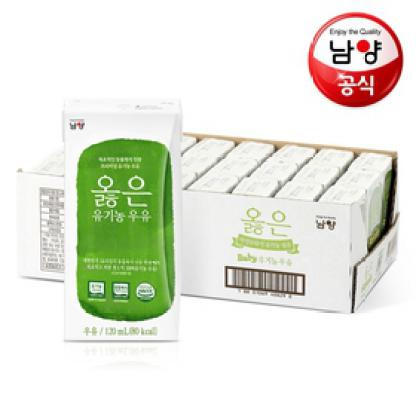tetra: (40, 81, 194, 353)
